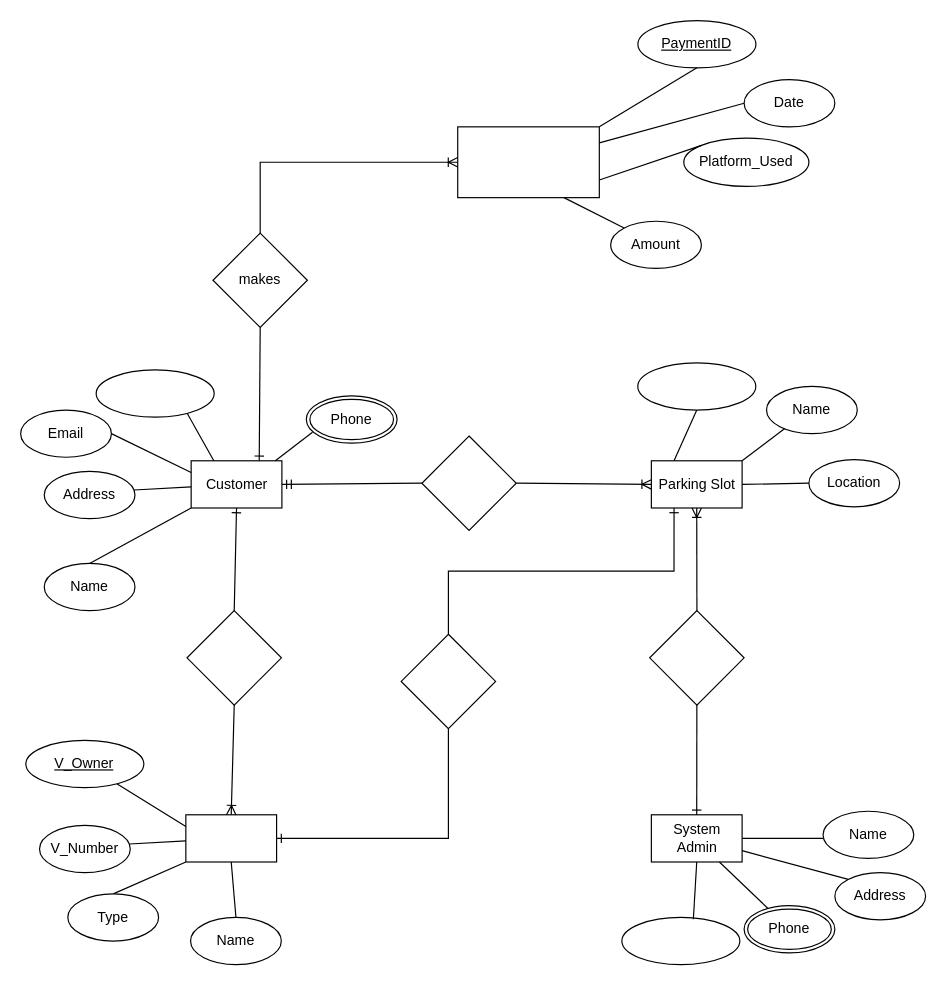
Some shapes in this 946 by 985 pixel diagram are drawn without their labels. Here are the shapes that lost their labels. From the top down, the centre of each, then its label:
At point (528, 162): "Payment".
At point (154, 393): "CID".
At point (696, 386): "Slot_ID".
At point (468, 482): "books".
At point (233, 657): "owns".
At point (696, 657): "manages".
At point (448, 681): "has".
At point (231, 838): "Vehicle".
At point (680, 940): "Admin_ID".
